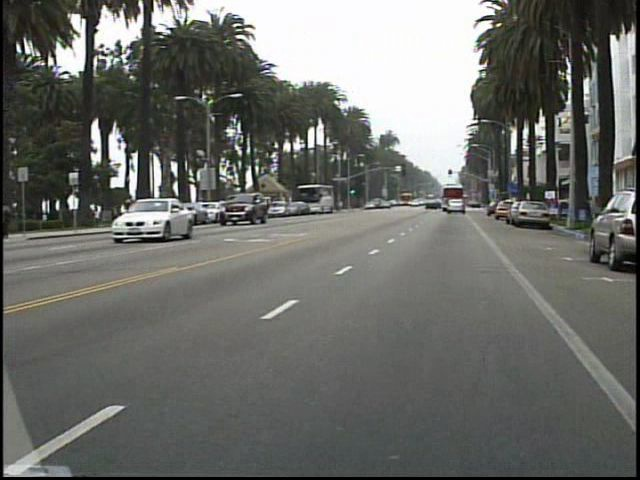person: (1, 196, 23, 240), (127, 189, 147, 224)
